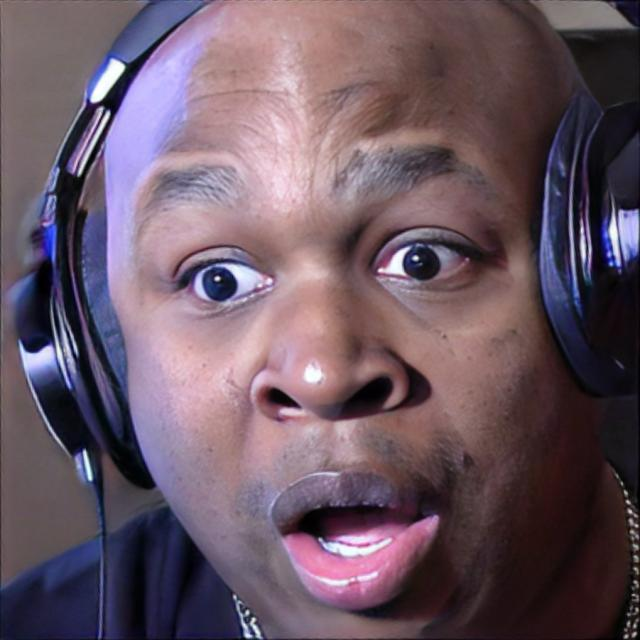fear: (105, 3, 605, 640)
